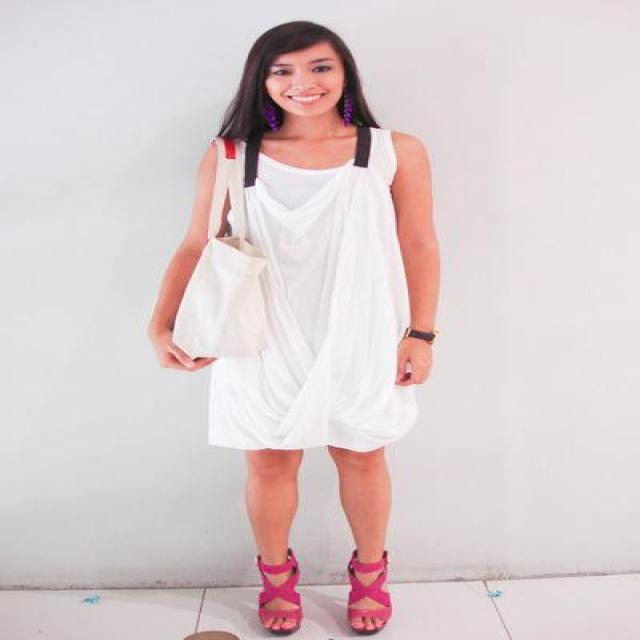dress: (198, 132, 416, 451)
shoe: (259, 550, 387, 605)
